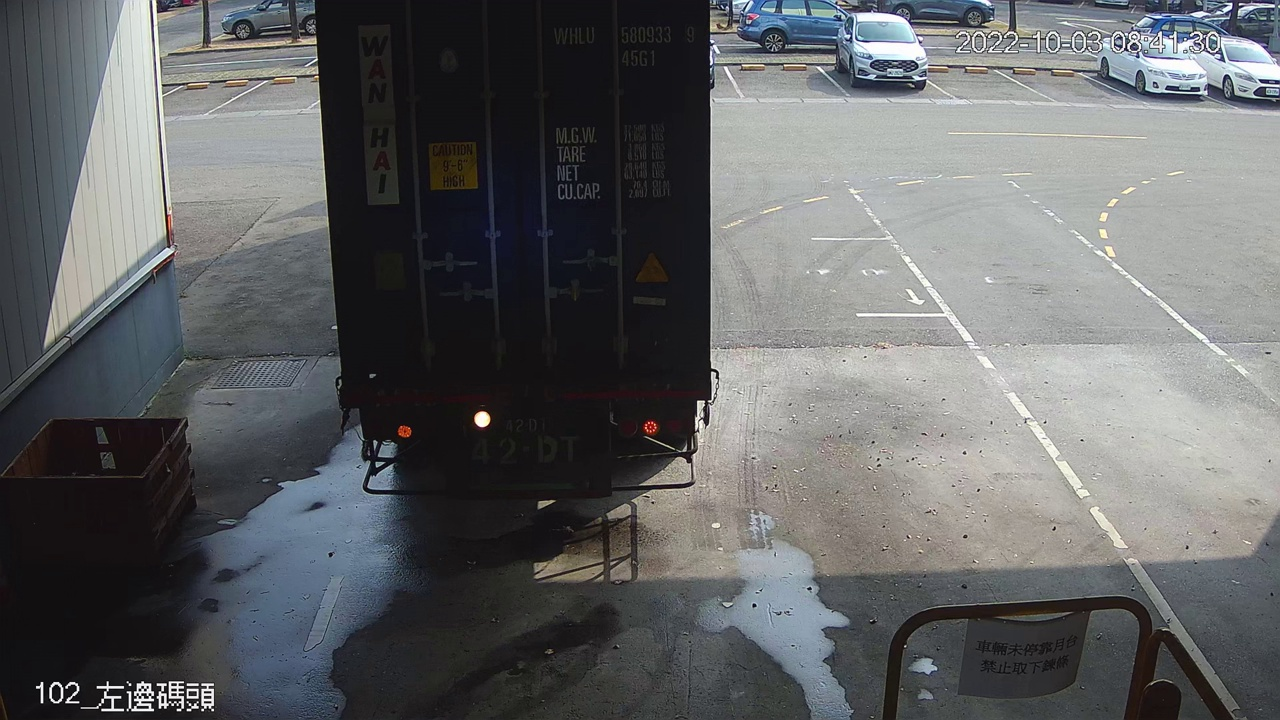container: (547, 17, 701, 70)
